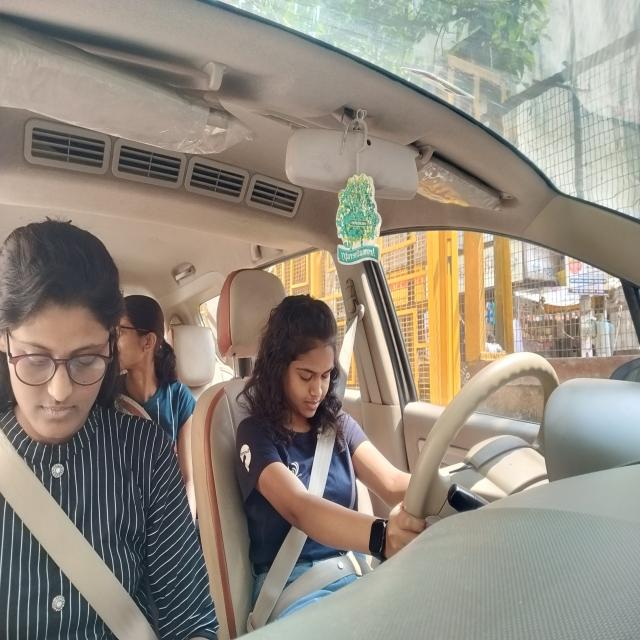drowsy: (254, 292, 341, 432)
person: (2, 214, 115, 446), (116, 287, 169, 380)
